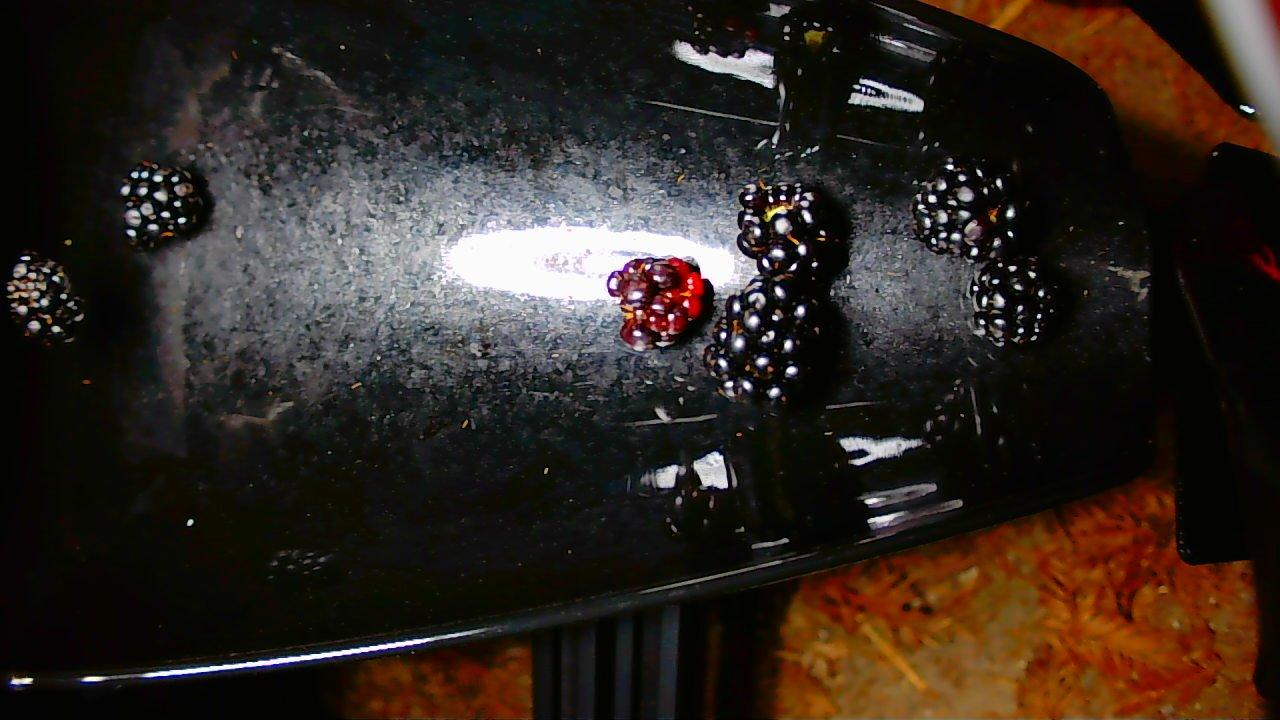berry: (704, 275, 824, 401), (911, 157, 1023, 262), (738, 183, 841, 276), (607, 257, 709, 350), (968, 257, 1058, 346), (120, 161, 206, 249), (5, 252, 83, 343)
